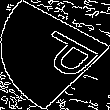P_SE: (11, 24, 99, 86)
